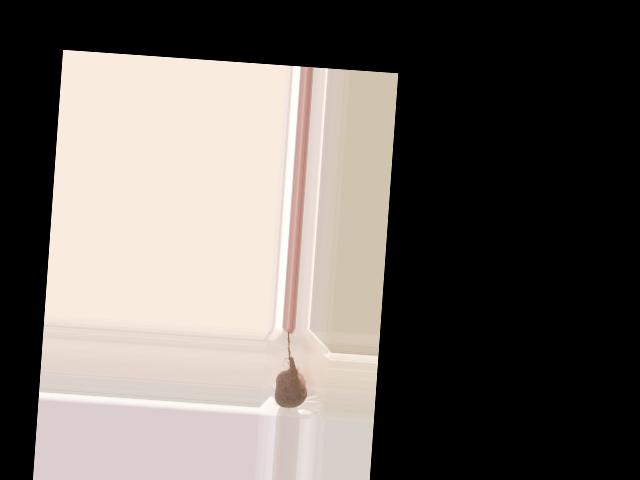beet: (274, 330, 311, 409)
